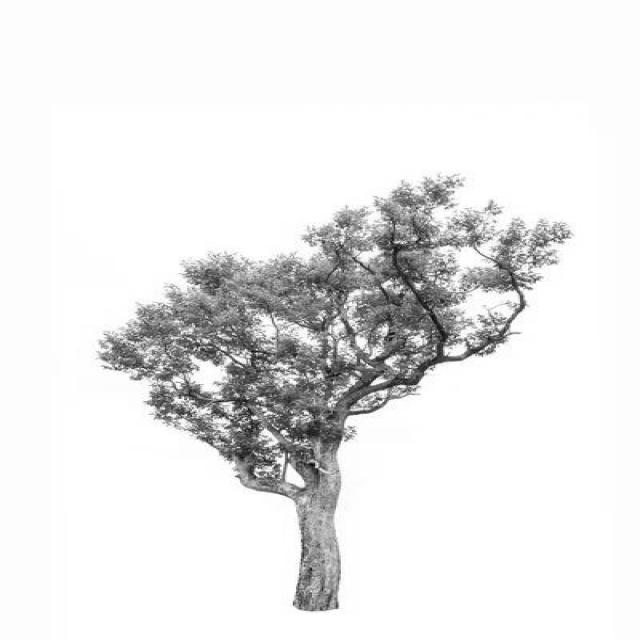Tree: (99, 176, 573, 612)
